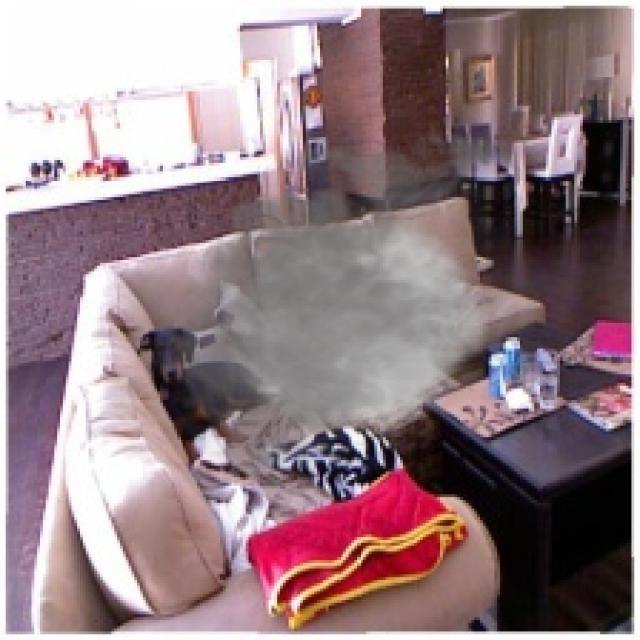Smoke: (143, 120, 563, 489)
